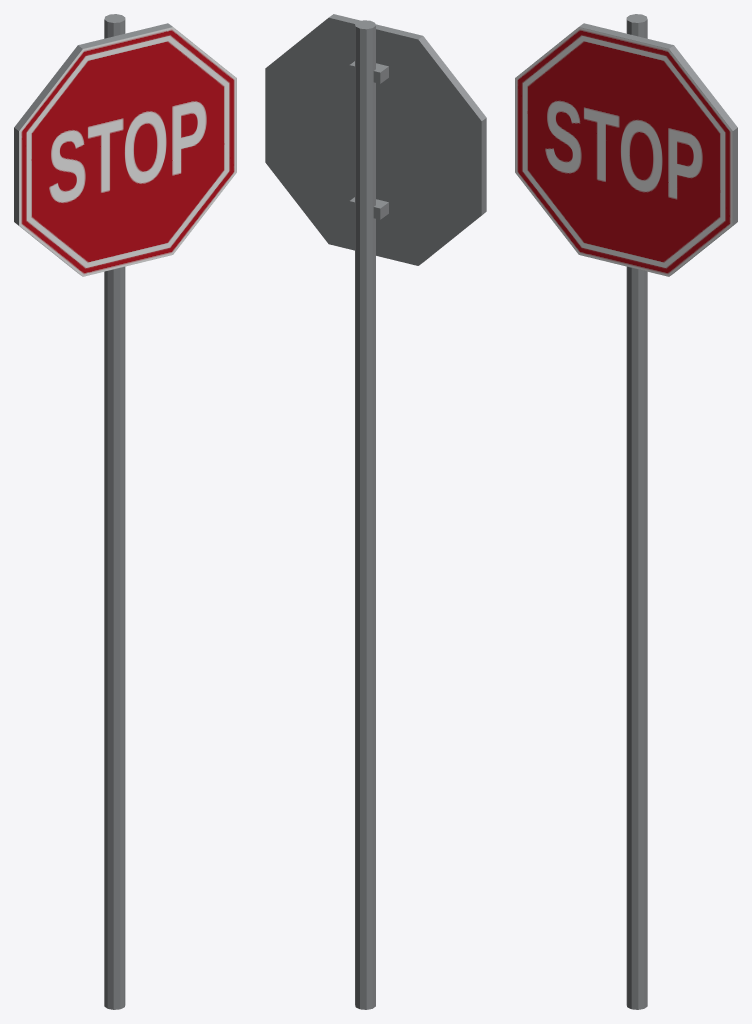
File: sign-stop.glb
3 views of the same model, side by side, from view 1: azimuth 30°, elevation 25°; view 2: azimuth 150°, elevation 25°; view 3: azimuth 330°, elevation 25° (orthographic).
Visible parts, largest first — view 1: sign-stop; view 2: sign-stop; view 3: sign-stop.
Boxes of the visible parts, left/top/right/bottom form: sign-stop: left=14, top=14, right=236, bottom=1009; sign-stop: left=265, top=14, right=486, bottom=1009; sign-stop: left=515, top=14, right=737, bottom=1009.
Size of the model in its own units: 0.7 by 3.03 by 0.103.
Materials: 1 (1 with a texture image).
